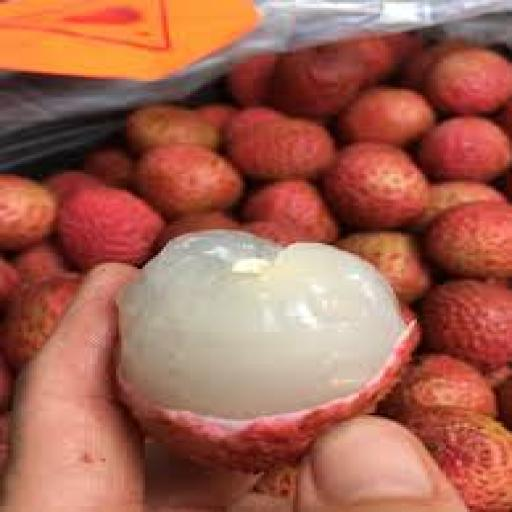lychee: (117, 232, 416, 472), (407, 408, 511, 511), (322, 143, 430, 229), (59, 188, 163, 270), (135, 145, 242, 219), (423, 281, 511, 369), (381, 354, 496, 419), (0, 275, 79, 369), (270, 46, 369, 118), (336, 232, 430, 302), (425, 202, 511, 278), (227, 119, 335, 179), (243, 180, 337, 243), (420, 117, 511, 181), (338, 87, 435, 146), (425, 48, 511, 114), (0, 174, 58, 251), (127, 105, 221, 152), (415, 182, 506, 229), (325, 36, 403, 85), (402, 40, 475, 90), (156, 212, 240, 249), (227, 54, 279, 106), (14, 242, 68, 282), (225, 107, 287, 140), (85, 147, 134, 187), (45, 171, 102, 203), (254, 465, 298, 500), (243, 222, 308, 245), (196, 103, 237, 132), (386, 32, 424, 63), (0, 257, 21, 306), (0, 356, 13, 413), (497, 378, 511, 428), (497, 101, 511, 138)
